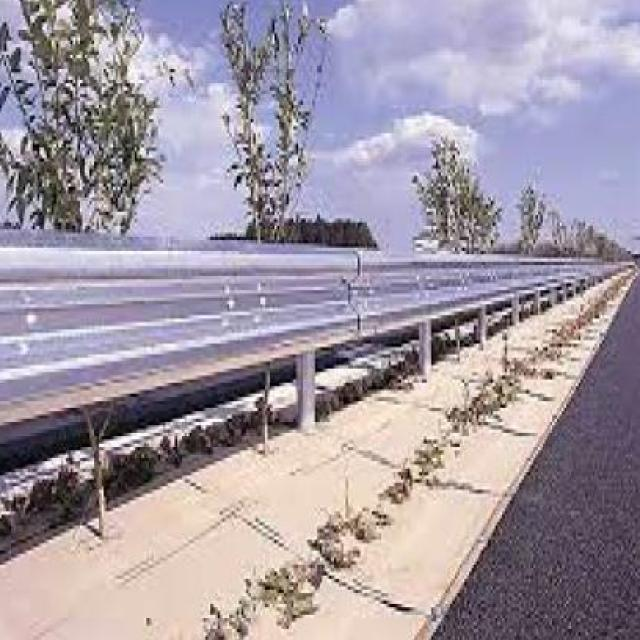Guard rail: (0, 212, 626, 442)
